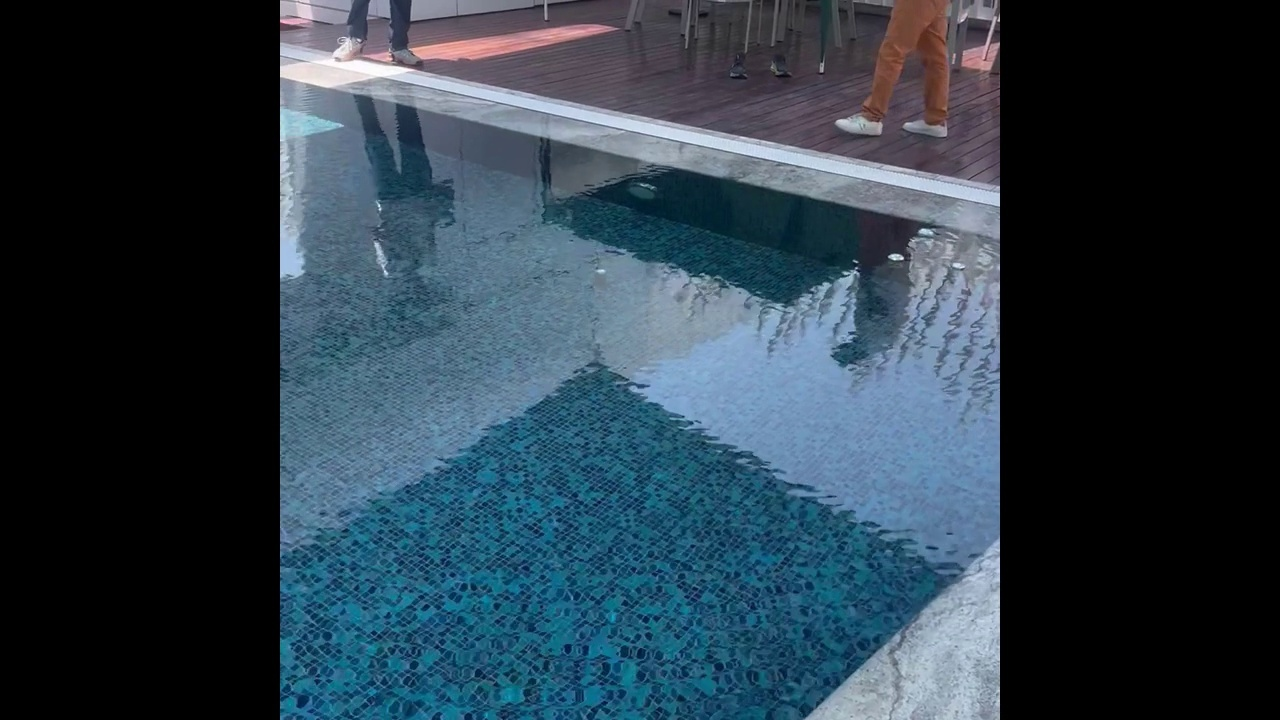debris: (910, 227, 934, 256), (592, 265, 608, 291), (886, 249, 904, 272), (949, 258, 969, 272)
